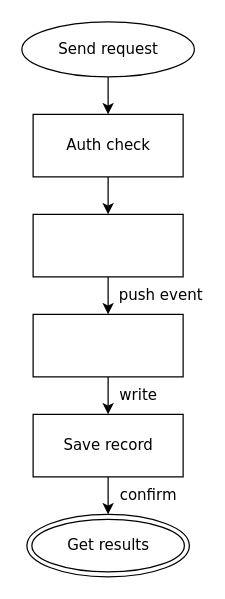
Image size: 225x599. Some labels were removed from this diagram. Each missing label, with the box of its shape:
Business logic: (32, 213, 183, 277)
Enqueue: (32, 313, 183, 377)
